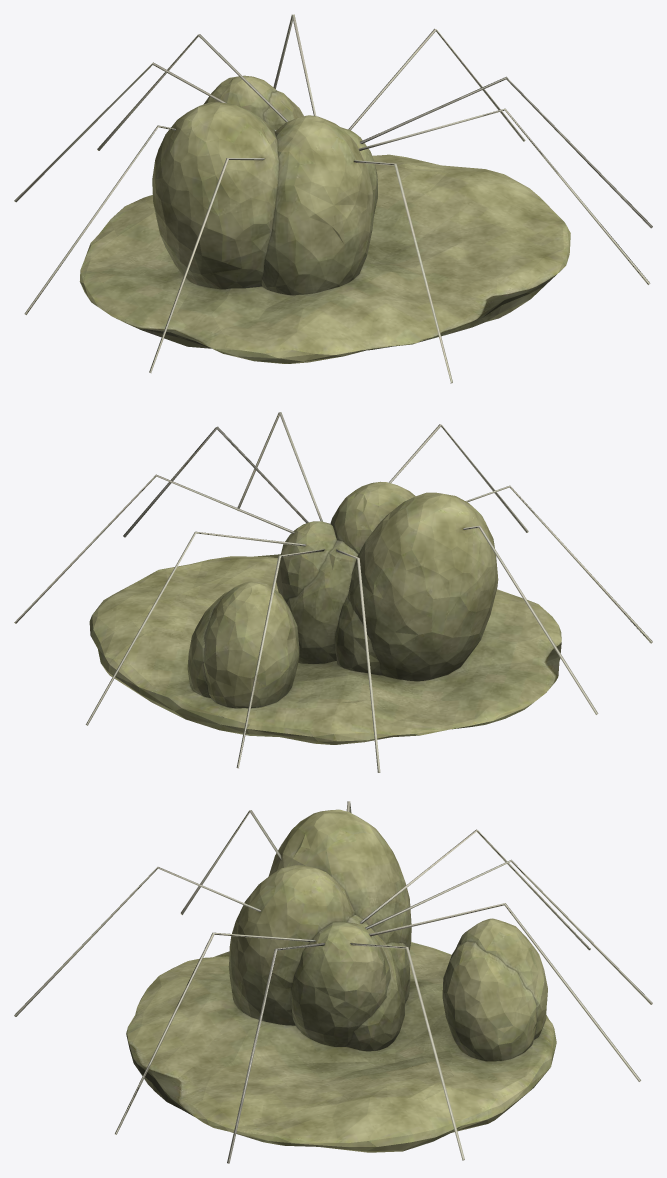
The model's file is dg_casulos_larva.glb.
The picture shows the model from 3 angles, top to bottom: view 1: azimuth 30°, elevation 25°; view 2: azimuth 150°, elevation 25°; view 3: azimuth 270°, elevation 25°; orthographic projection. The views are drawn at different scales.
Parts seen in each view (by area): view 1: dg_casulos_larva_tronco; view 2: dg_casulos_larva_tronco; view 3: dg_casulos_larva_tronco.
Boxes of the visible parts, x1=… form: dg_casulos_larva_tronco: x1=14, y1=14, x2=652, y2=383; dg_casulos_larva_tronco: x1=14, y1=412, x2=652, y2=772; dg_casulos_larva_tronco: x1=14, y1=801, x2=652, y2=1163.
Bounding box in the file's own units: 1.75 × 0.6139 × 1.78.
1 material, 1 textured.
